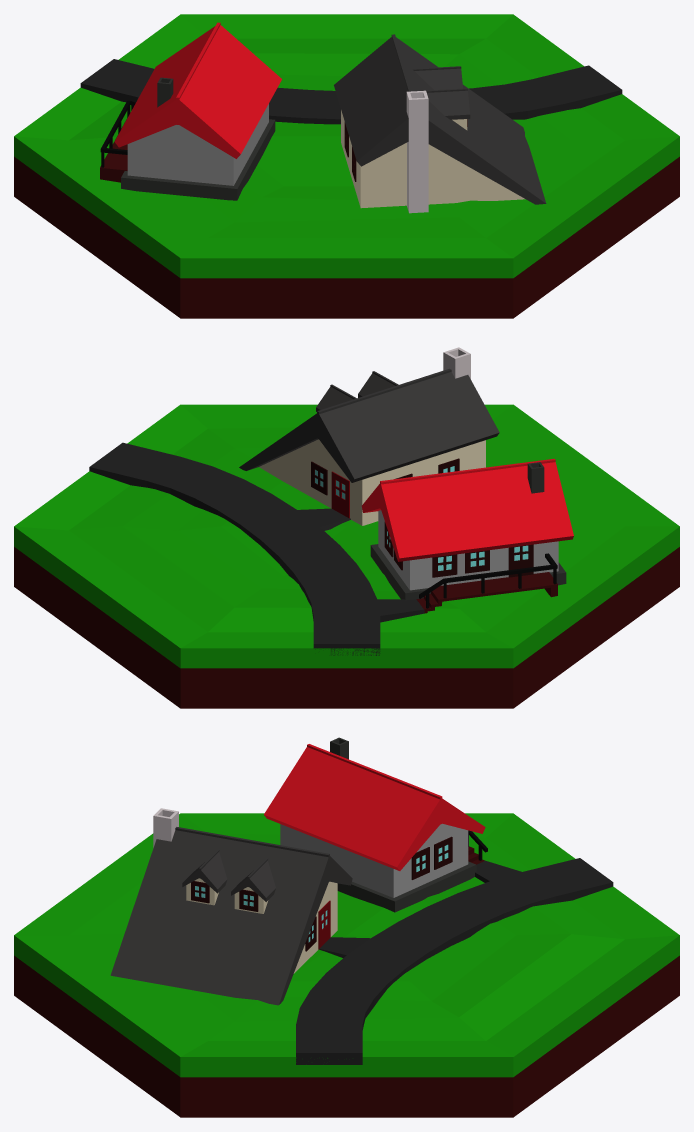
The model's file is Testovaci_hex.fbx.
3 renders of one model, top to bottom at view 1: azimuth 30°, elevation 25°; view 2: azimuth 150°, elevation 25°; view 3: azimuth 270°, elevation 25°, orthographic.
Visible parts, largest first — view 1: Cylinder.001, Cylinder, Cube.002, Cube.004, Cube.005; view 2: Cylinder.001, Cylinder, Cube.004, Cube.002, Cube.005; view 3: Cylinder.001, Cube.002, Cylinder, Cube.004, Cube.005.
Boxes of the visible parts, box(x1,y1,x2,y2) form: Cylinder.001: box(14, 14, 679, 278); Cylinder: box(14, 156, 679, 318); Cube.002: box(334, 34, 546, 213); Cube.004: box(100, 22, 281, 200); Cube.005: box(80, 59, 622, 124); Cylinder.001: box(14, 404, 679, 668); Cylinder: box(14, 547, 679, 708); Cube.004: box(361, 458, 573, 613); Cube.002: box(239, 347, 499, 525); Cube.005: box(89, 442, 424, 655); Cylinder.001: box(14, 813, 679, 1077); Cube.002: box(110, 808, 352, 1005); Cylinder: box(14, 955, 679, 1117); Cube.004: box(264, 737, 487, 912); Cube.005: box(296, 858, 613, 1064).
Bounding box in the file's own units: 2598 × 856 × 3000.
